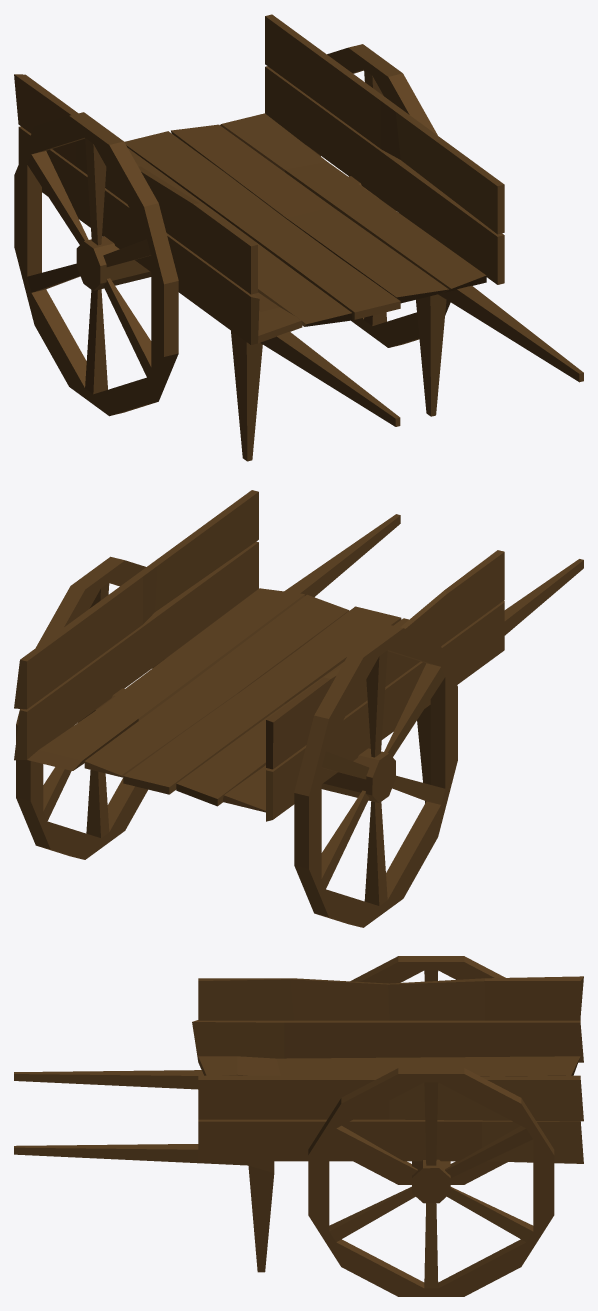
File: MageHunter - Cart.fbx
The picture shows the model from 3 angles, top to bottom: view 1: azimuth 30°, elevation 25°; view 2: azimuth 150°, elevation 25°; view 3: azimuth 270°, elevation 25°; orthographic projection. The views are drawn at different scales.
Visible parts, largest first — view 1: Cube.001, Cube, Circle, Cube.002, Circle.001; view 2: Cube.001, Cube, Circle, Cube.002, Circle.001; view 3: Cube.001, Circle, Cube.002, Cube, Circle.001.
Boxes of the visible parts, x1,y1,x2,y2 form: Cube.001: [14, 14, 504, 344]; Cube: [124, 113, 486, 343]; Circle: [14, 44, 450, 416]; Cube.002: [231, 285, 583, 461]; Circle.001: [76, 176, 392, 290]; Cube.001: [14, 490, 504, 821]; Cube: [27, 588, 408, 812]; Circle: [16, 556, 457, 927]; Cube.002: [284, 514, 583, 803]; Circle.001: [78, 688, 395, 802]; Cube.001: [192, 976, 583, 1163]; Circle: [308, 956, 554, 1296]; Cube.002: [14, 1070, 274, 1272]; Cube: [198, 1056, 580, 1077]; Circle.001: [412, 1159, 450, 1203].
Size of the model in its own units: 142 by 125 by 289.
